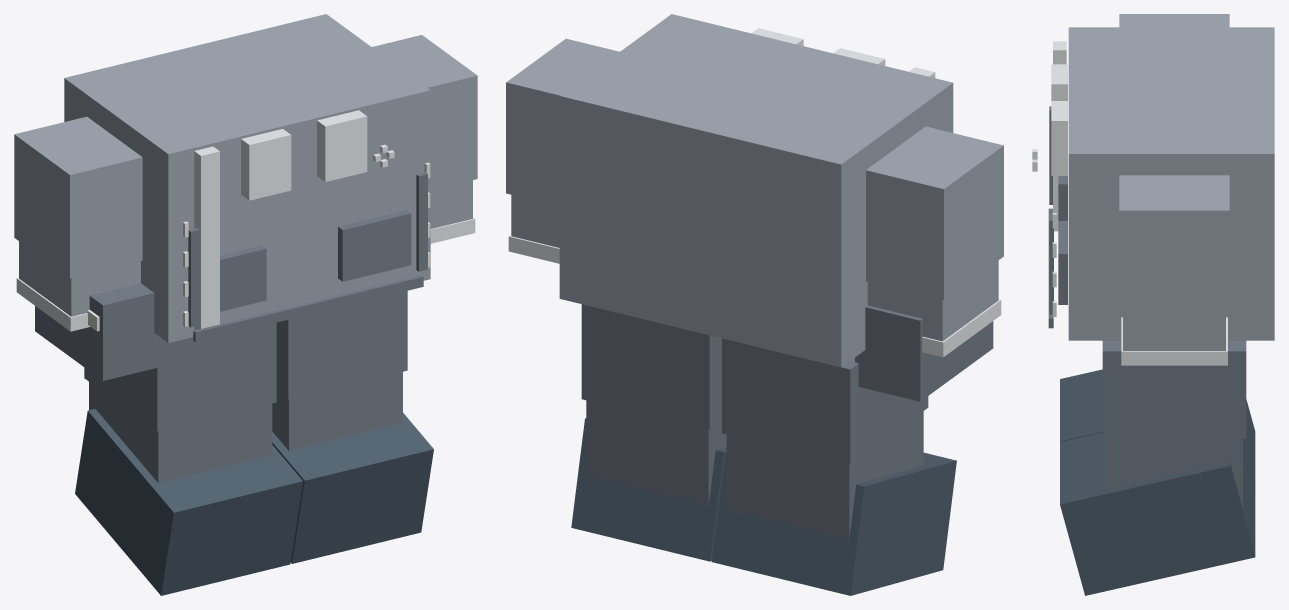
The model's file is student-slate.glb.
3 views of the same model, side by side, from view 1: azimuth 30°, elevation 25°; view 2: azimuth 150°, elevation 25°; view 3: azimuth 270°, elevation 25° (orthographic). The views are drawn at different scales.
Visible parts, largest first — view 1: jacket, shoe-Right, upper-sleeve-Right, shoe-Left, trouser-Right, trouser-Left, lower-trouser-Right, upper-sleeve-Left, satchel, lower-trouser-Left, pocket-1, satchel-strap (+10 smaller); view 2: jacket, upper-sleeve-Right, shoe-Right, trouser-Right, trouser-Left, lower-trouser-Right, lower-trouser-Left, upper-sleeve-Left, shoe-Left, satchel, lower-sleeve-Right, lower-sleeve-Left (+2 smaller); view 3: jacket, shoe-Left, upper-sleeve-Left, trouser-Left, lower-trouser-Left, lower-sleeve-Left, shoe-Right, cuff-Left, upper-sleeve-Right, lapel-1, pocket-1, lapel--1 (+3 smaller).
Part boxes in pixels (bbox=[...]): jacket: bbox=[64, 14, 430, 342]; shoe-Right: bbox=[75, 409, 302, 595]; upper-sleeve-Right: bbox=[14, 116, 142, 278]; shoe-Left: bbox=[272, 413, 433, 563]; trouser-Right: bbox=[84, 322, 276, 431]; trouser-Left: bbox=[276, 290, 407, 399]; lower-trouser-Right: bbox=[89, 382, 272, 482]; upper-sleeve-Left: bbox=[372, 35, 477, 190]; satchel: bbox=[35, 283, 163, 380]; lower-trouser-Left: bbox=[272, 372, 402, 451]; pocket-1: bbox=[338, 210, 411, 281]; satchel-strap: bbox=[194, 146, 219, 330]; jacket: bbox=[559, 14, 953, 367]; upper-sleeve-Right: bbox=[866, 126, 1003, 300]; shoe-Right: bbox=[712, 452, 956, 595]; trouser-Right: bbox=[722, 338, 928, 464]; trouser-Left: bbox=[581, 304, 721, 430]; lower-trouser-Right: bbox=[726, 411, 923, 539]; lower-trouser-Left: bbox=[586, 400, 726, 505]; upper-sleeve-Left: bbox=[506, 38, 619, 206]; shoe-Left: bbox=[571, 418, 726, 561]; satchel: bbox=[855, 305, 993, 401]; lower-sleeve-Right: bbox=[867, 260, 998, 341]; lower-sleeve-Left: bbox=[511, 195, 559, 247]; jacket: bbox=[1068, 27, 1274, 340]; shoe-Left: bbox=[1060, 432, 1255, 595]; upper-sleeve-Left: bbox=[1119, 175, 1229, 312]; trouser-Left: bbox=[1102, 340, 1246, 438]; lower-trouser-Left: bbox=[1106, 439, 1242, 507]; lower-sleeve-Left: bbox=[1123, 312, 1225, 350]; shoe-Right: bbox=[1060, 369, 1255, 493]; cuff-Left: bbox=[1121, 317, 1227, 365]; upper-sleeve-Right: bbox=[1119, 14, 1229, 27]; lapel-1: bbox=[1051, 101, 1067, 175]; pocket-1: bbox=[1058, 221, 1067, 304]; lapel--1: bbox=[1051, 64, 1067, 100].
Bounding box in the file's own units: 1.07 × 1.13 × 0.559.
